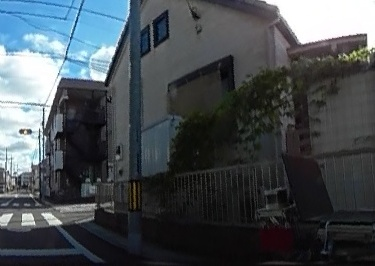person: (369, 67, 375, 266)
